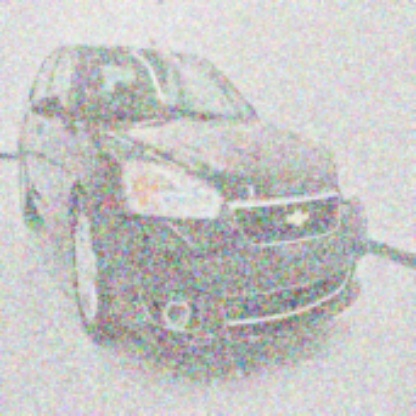Vehicle: (16, 40, 371, 360)
